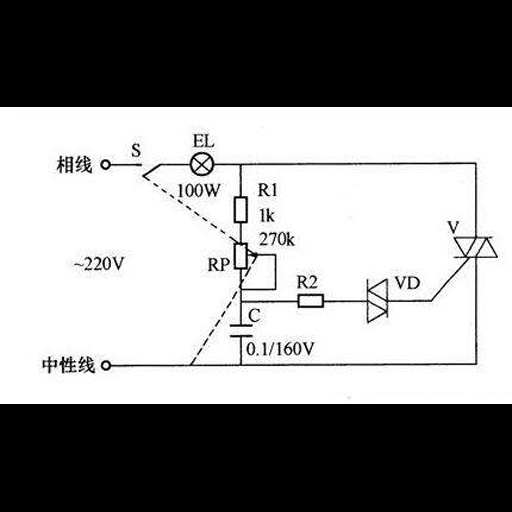capacitor: (225, 320, 253, 341)
firstresistance: (292, 291, 333, 311), (230, 194, 251, 226)
light: (188, 150, 215, 178)
